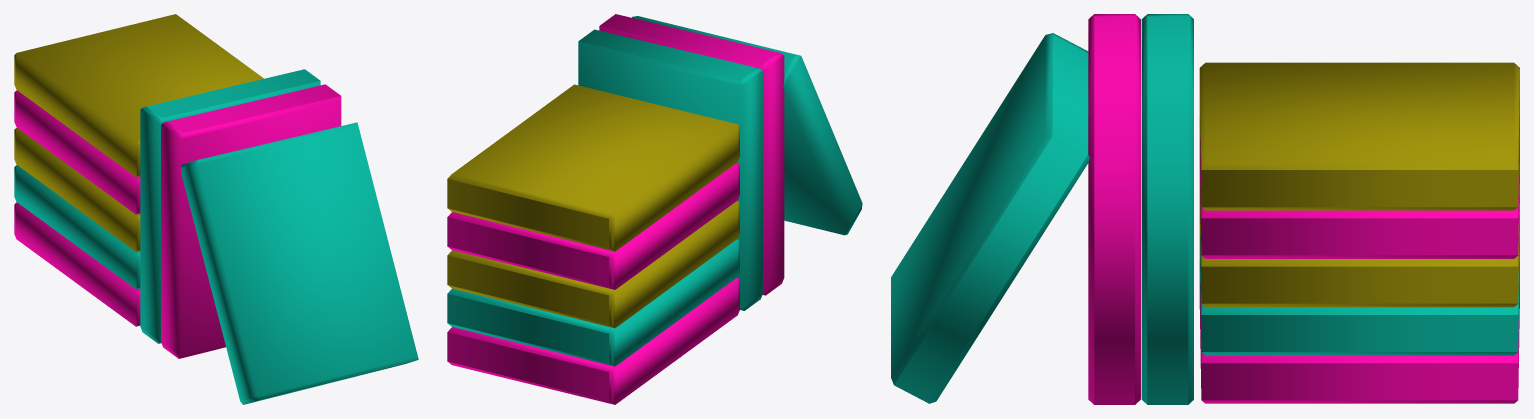
The model's file is Book_Group_01.FBX.
3 views of the same model, side by side, from view 1: azimuth 30°, elevation 25°; view 2: azimuth 150°, elevation 25°; view 3: azimuth 270°, elevation 25° (orthographic). The views are drawn at different scales.
Visible parts, largest first — view 1: Object003; view 2: Object003; view 3: Object003.
Boxes of the visible parts, x1,y1,x2,y2 form: Object003: (14, 14, 418, 404); Object003: (447, 14, 862, 404); Object003: (891, 14, 1519, 404).
Bounding box in the file's own units: 30.08 × 39.83 × 78.21.
